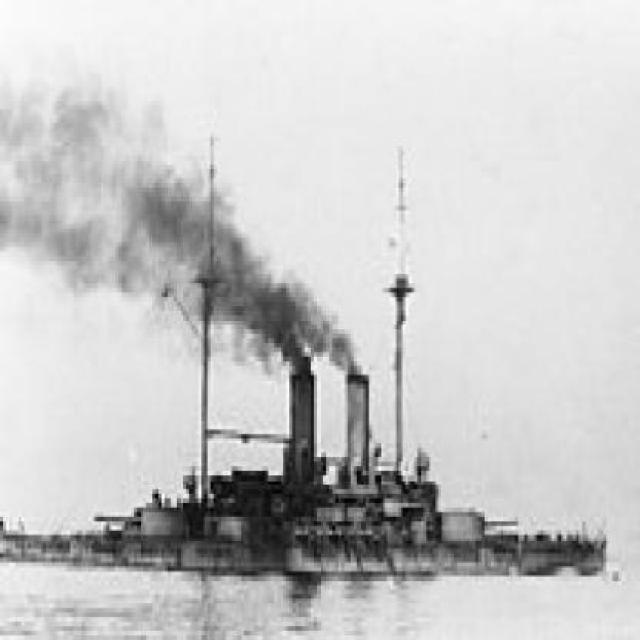warship2: (1, 106, 619, 581)
